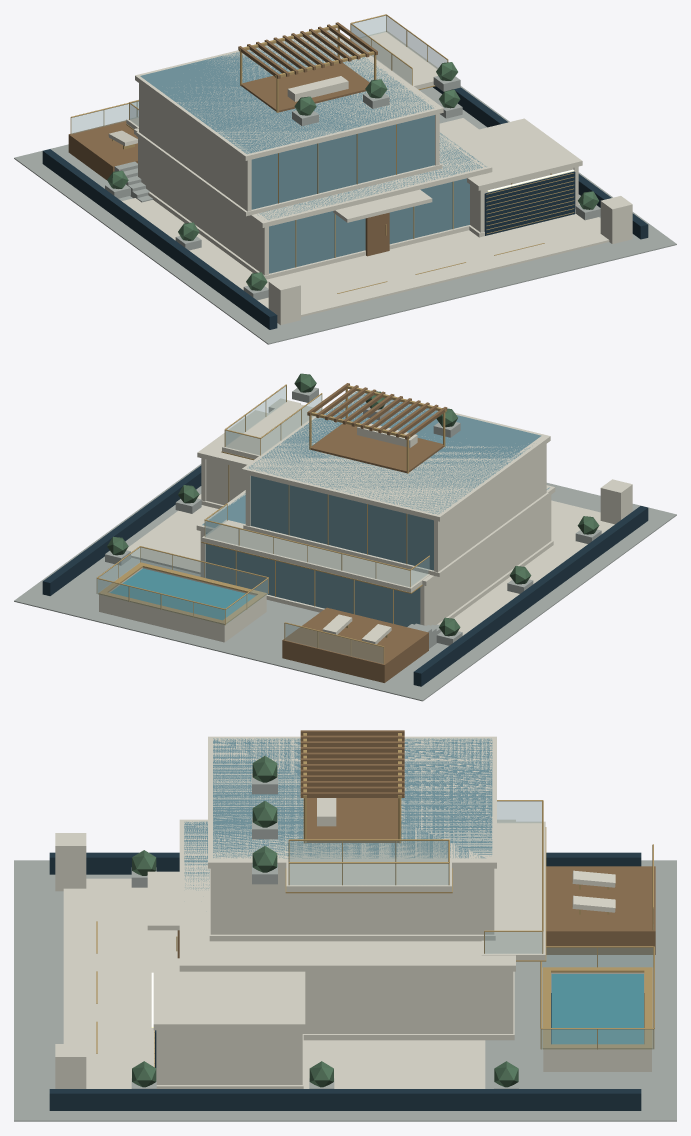
The model's file is riverlight-terrace.glb.
The picture shows the model from 3 angles, top to bottom: view 1: azimuth 30°, elevation 25°; view 2: azimuth 150°, elevation 25°; view 3: azimuth 270°, elevation 25°; orthographic projection. The views are drawn at different scales.
Visible parts, largest first — view 1: RV-01-ivory, RV-01-glazing, RV-01-stone, RV-01-dark, RV-01-wood, RV-01-gold, RV-01-glass, RV-01-leaf; view 2: RV-01-ivory, RV-01-glazing, RV-01-stone, RV-01-glass, RV-01-wood, RV-01-dark, RV-01-gold, RV-01-water, RV-01-leaf; view 3: RV-01-ivory, RV-01-stone, RV-01-glazing, RV-01-wood, RV-01-dark, RV-01-glass, RV-01-gold, RV-01-water, RV-01-leaf.
Part boxes in pixels (box(x1,y1,x2,y2)): RV-01-ivory: box(108, 30, 632, 325); RV-01-glazing: box(140, 31, 486, 273); RV-01-stone: box(14, 76, 676, 344); RV-01-dark: box(42, 86, 648, 329); RV-01-wood: box(68, 22, 389, 256); RV-01-gold: box(70, 14, 574, 293); RV-01-glass: box(71, 16, 446, 133); RV-01-leaf: box(107, 62, 598, 290); RV-01-ivory: box(99, 391, 632, 644); RV-01-glazing: box(202, 391, 549, 626); RV-01-stone: box(14, 387, 676, 701); RV-01-glass: box(97, 386, 429, 663); RV-01-wood: box(282, 383, 447, 682); RV-01-dark: box(42, 465, 648, 686); RV-01-gold: box(96, 384, 446, 663); RV-01-water: box(110, 568, 255, 620); RV-01-leaf: box(107, 373, 599, 636); RV-01-ivory: box(55, 736, 651, 1088); RV-01-stone: box(14, 773, 676, 1121); RV-01-glazing: box(184, 738, 492, 890); RV-01-wood: box(177, 730, 655, 958); RV-01-dark: box(49, 852, 644, 1110); RV-01-glass: box(289, 801, 653, 1049); RV-01-gold: box(96, 733, 654, 1067); RV-01-water: box(551, 974, 643, 1044); RV-01-leaf: box(132, 756, 518, 1087).
Bounding box in the file's own units: 26 × 9.68 × 28.
